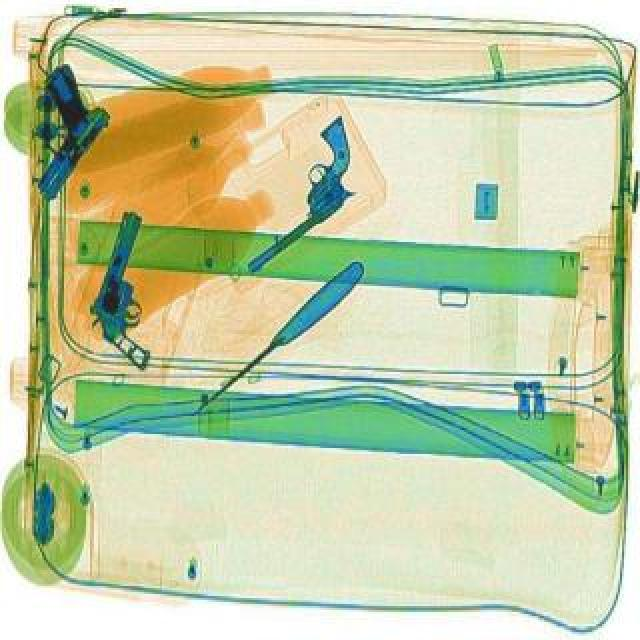gun: (202, 118, 390, 276), (78, 214, 190, 374), (0, 76, 120, 196)
knife: (184, 260, 372, 428)
